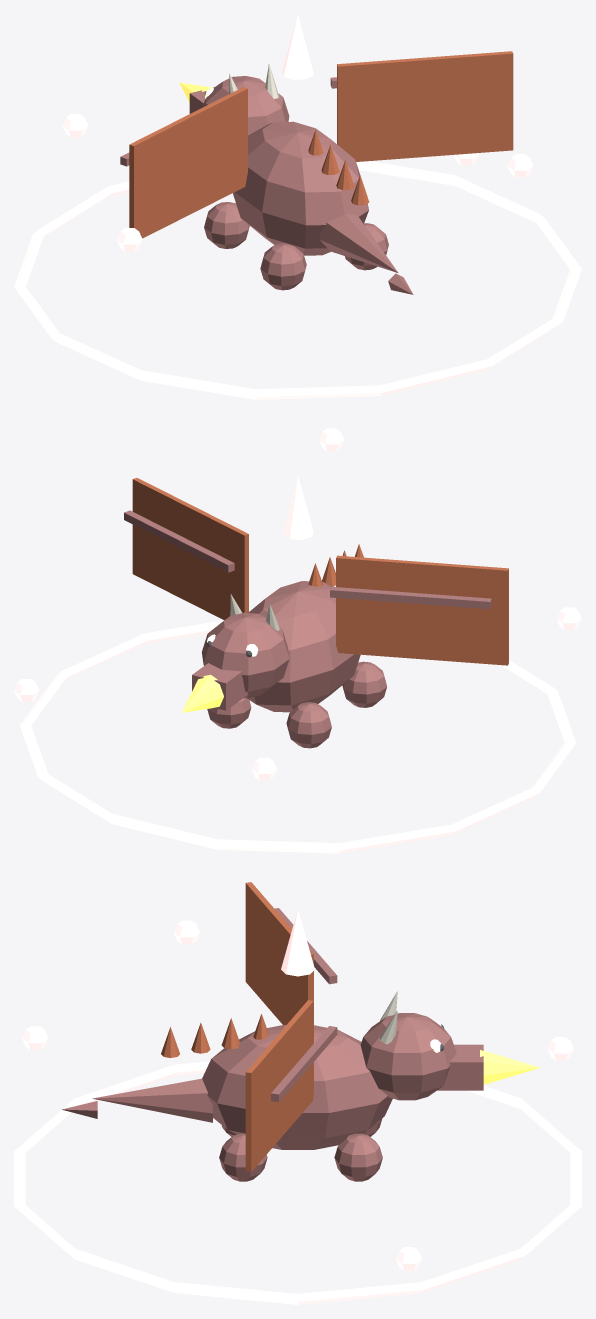
File: evolved_inferno_dragon.glb
The picture shows the model from 3 angles, top to bottom: view 1: azimuth 30°, elevation 25°; view 2: azimuth 150°, elevation 25°; view 3: azimuth 270°, elevation 25°; orthographic projection. The views are drawn at different scales.
Parts seen in each view (by area): view 1: evolved_inferno_dragon; view 2: evolved_inferno_dragon; view 3: evolved_inferno_dragon.
Boxes of the visible parts, x1,y1,x2,y2 form: evolved_inferno_dragon: (14,15,581,399); evolved_inferno_dragon: (14,428,581,853); evolved_inferno_dragon: (14,882,581,1304).
Bounding box in the file's own units: 5.28 × 2.76 × 5.15.
